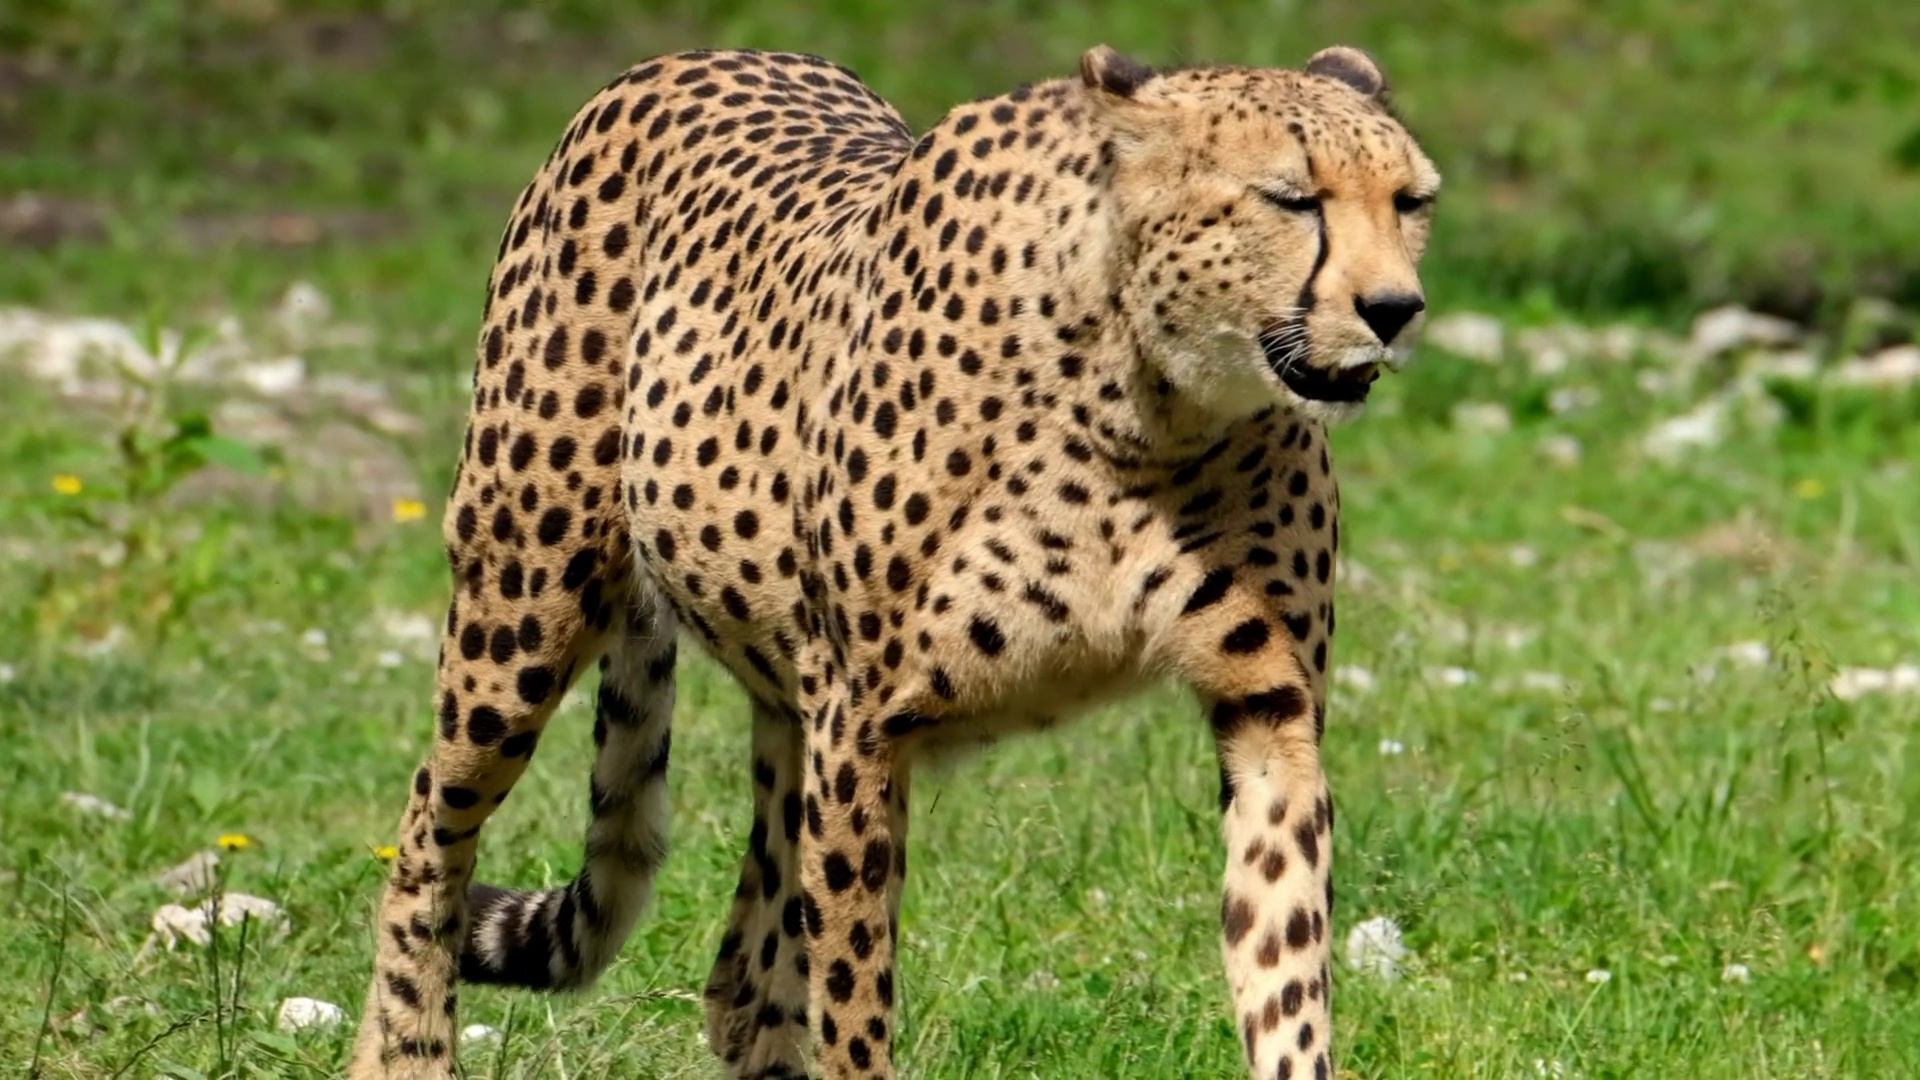Cheetah: (345, 30, 1447, 1080)
